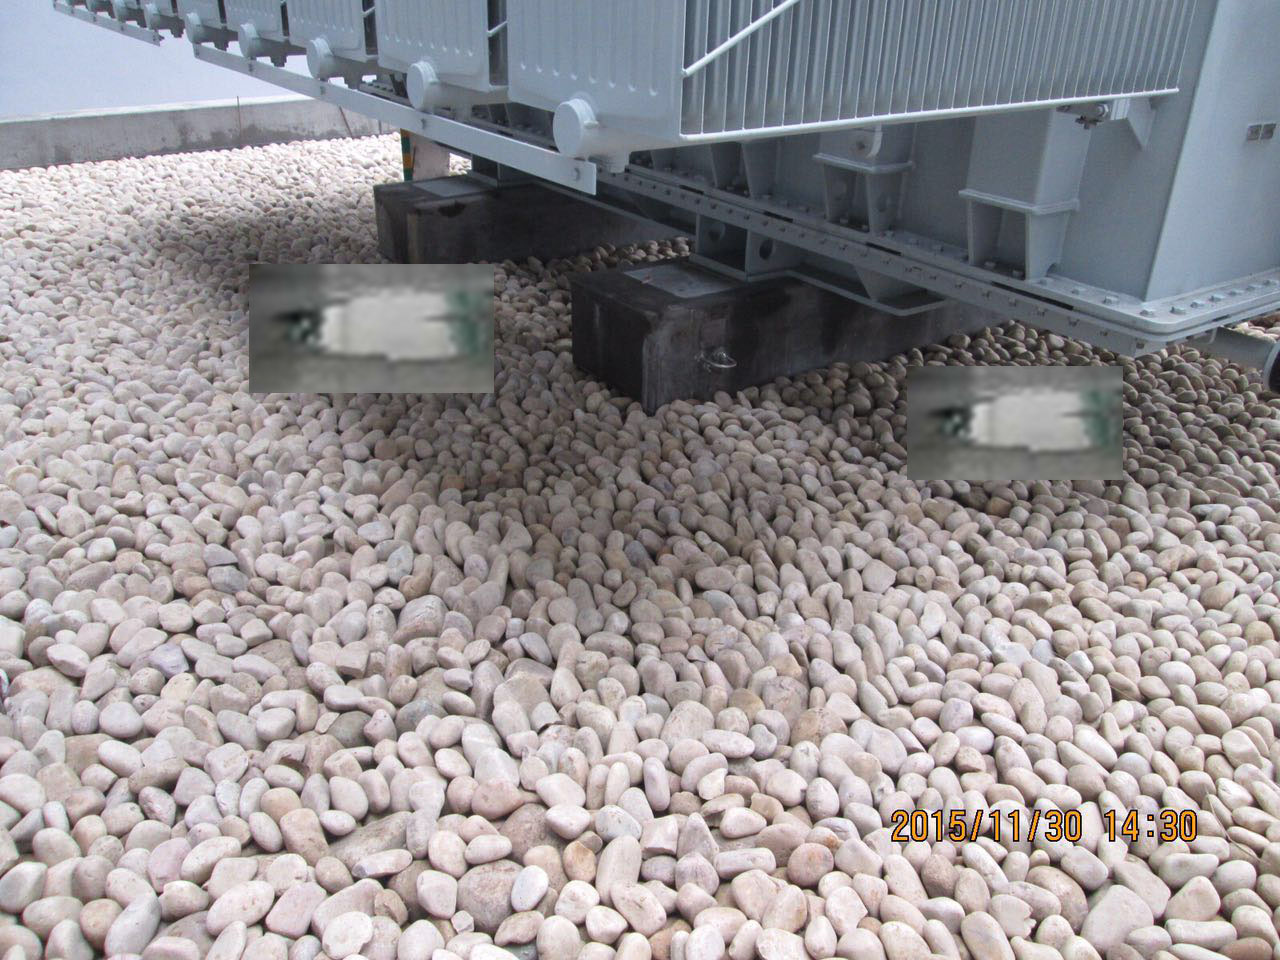oil: (248, 265, 495, 390), (906, 359, 1133, 479)
